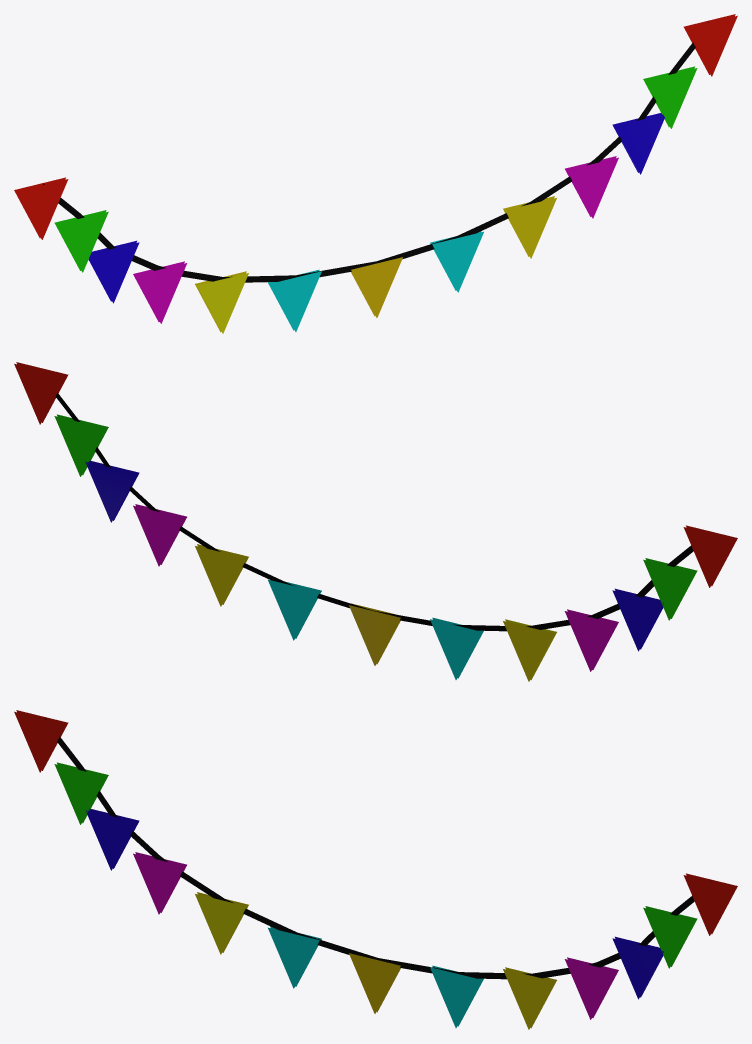
The model's file is model_promp_hangingflags.fbx.
3 views of the same model, one above another, from view 1: azimuth 30°, elevation 25°; view 2: azimuth 150°, elevation 25°; view 3: azimuth 330°, elevation 25° (orthographic).
Parts seen in each view (by area): view 1: Plane.000; view 2: Plane.000; view 3: Plane.000.
Part boxes in pixels (left/top/right/bottom): Plane.000: left=14, top=14, right=737, bottom=333; Plane.000: left=14, top=362, right=737, bottom=681; Plane.000: left=14, top=710, right=737, bottom=1029.
Bounding box in the file's own units: 473 × 134 × 2.54.
